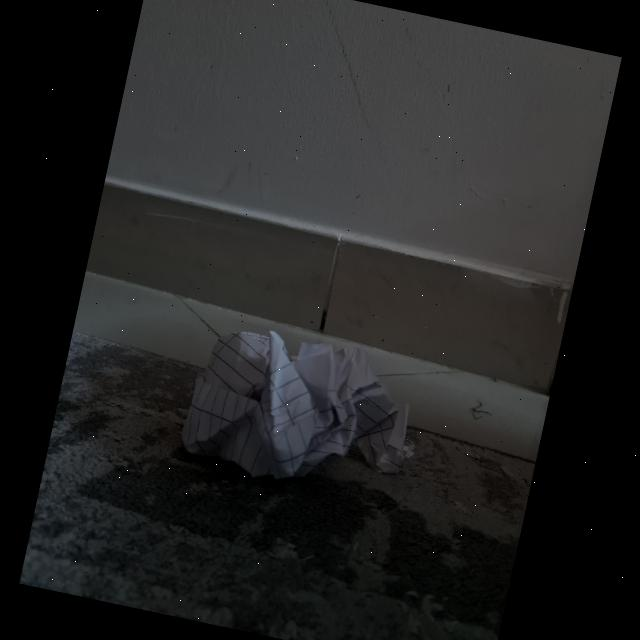trash: (176, 315, 436, 501)
